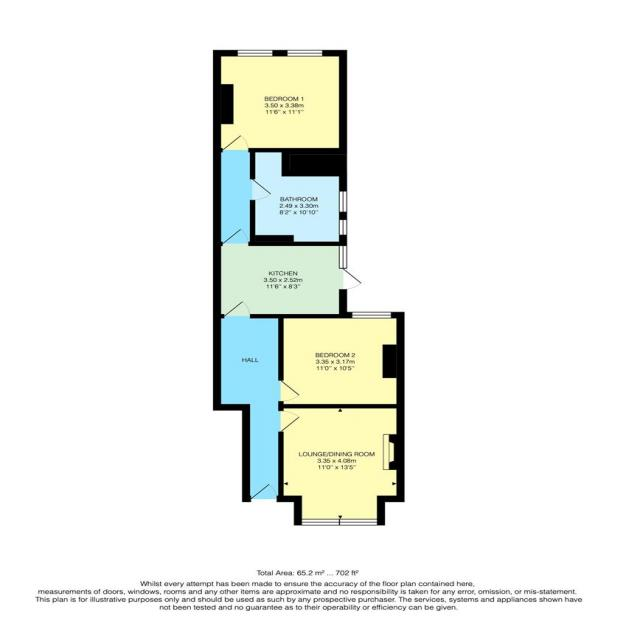DOOR: (249, 173, 275, 204), (247, 482, 281, 502), (278, 376, 303, 403), (220, 133, 252, 153), (221, 299, 253, 319), (220, 227, 253, 246), (339, 267, 364, 292), (278, 410, 301, 433)
ROOM: (278, 404, 405, 526), (212, 226, 366, 320), (213, 49, 348, 154), (278, 312, 404, 409)
WINDOW: (301, 517, 379, 527), (235, 48, 275, 58), (286, 48, 325, 58), (351, 311, 393, 319), (337, 190, 351, 213), (337, 245, 348, 270), (338, 219, 349, 236)
